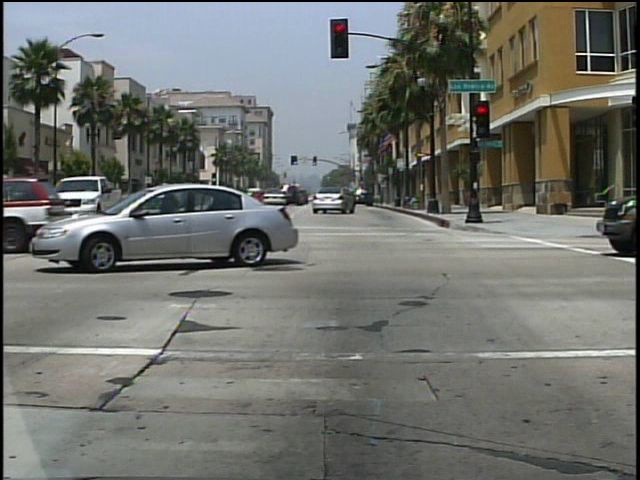person: (1, 178, 21, 232)
